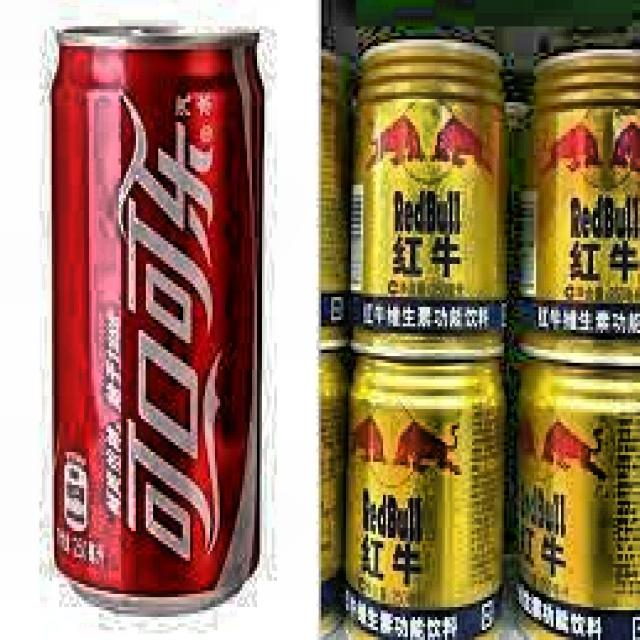can: (44, 13, 274, 625), (346, 31, 515, 362), (340, 352, 505, 640), (520, 33, 640, 368), (516, 353, 640, 640)
